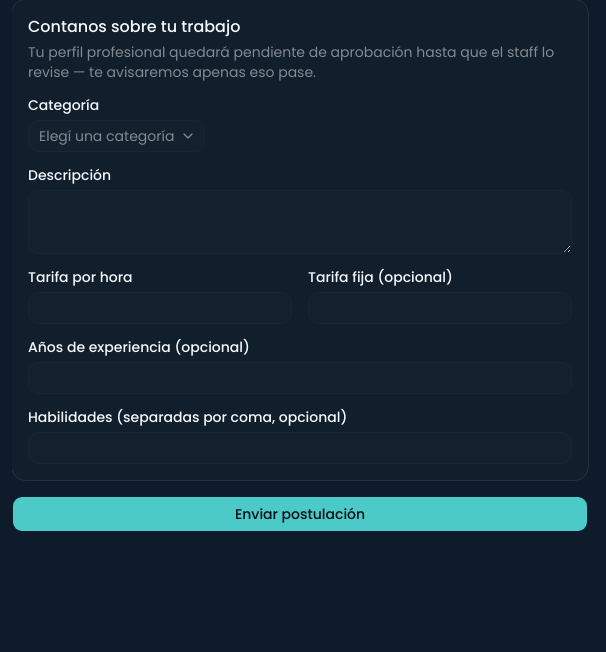
ProfessionalApplicationForm › muestra errores de validación si se envía sin completar los campos obligatorios
Expected: the dropdown labelled "categoría" is shown, [28,120,205,152]
Click the button "Enviar postulación": (300, 514) [12,496,588,532]
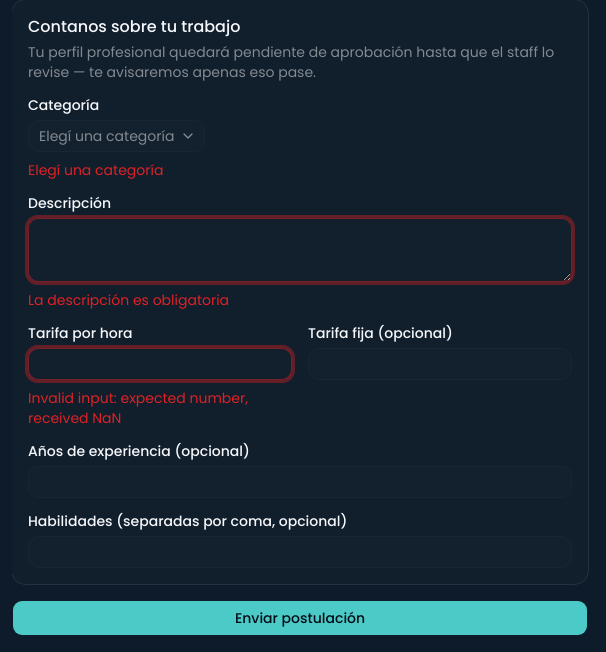
Result: the 2nd text "Elegí una categoría" is shown at [28,160,163,180]
Result: the text "La descripción es obligatoria" is shown at [28,290,229,310]
